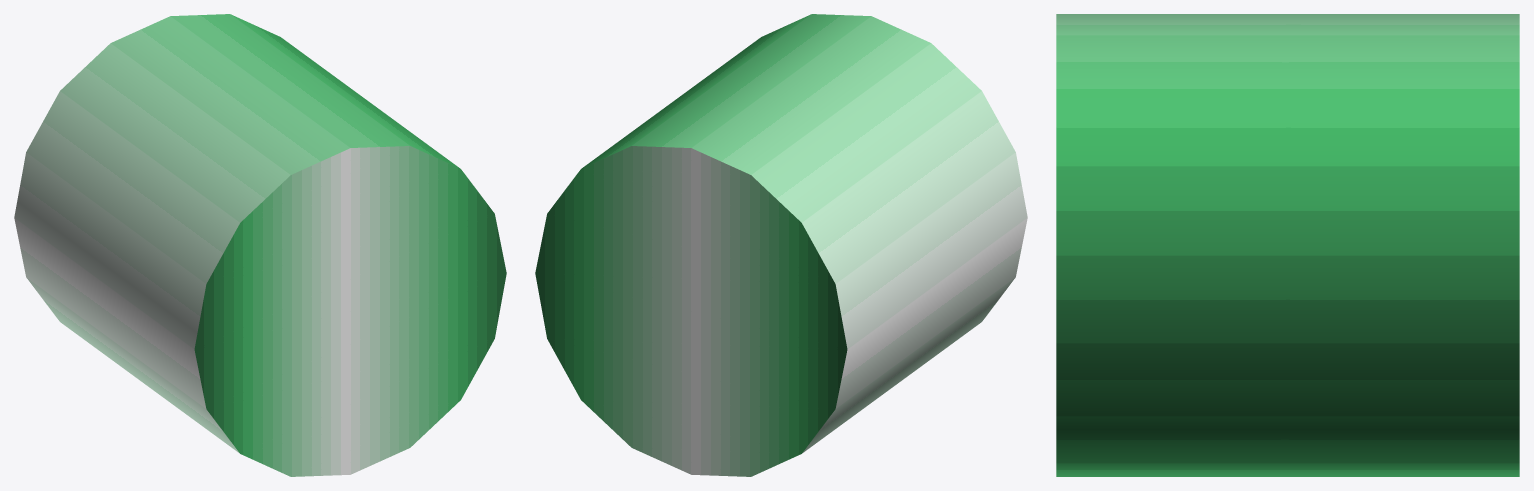
Rendered from pipeGreen.dae.
3 renders of one model, left to right at view 1: azimuth 30°, elevation 25°; view 2: azimuth 150°, elevation 25°; view 3: azimuth 270°, elevation 25°, orthographic. The views are drawn at different scales.
Parts seen in each view (by area): view 1: skp45F6; view 2: skp45F6; view 3: skp45F6.
Boxes of the visible parts, x1,y1,x2,y2 form: skp45F6: (14,14,506,476); skp45F6: (535,14,1027,476); skp45F6: (1056,14,1519,476).
Size of the model in its own units: 39.37 by 39.37 by 39.37.
1 material, 1 textured.
